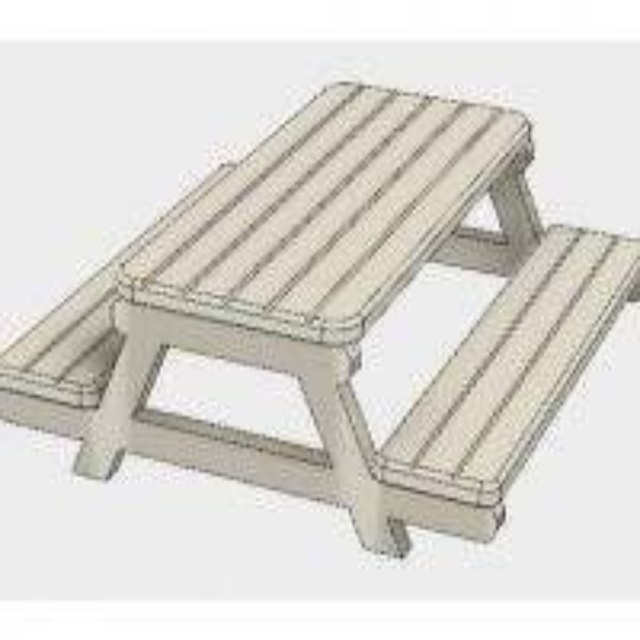obstacle: (0, 36, 634, 576)
